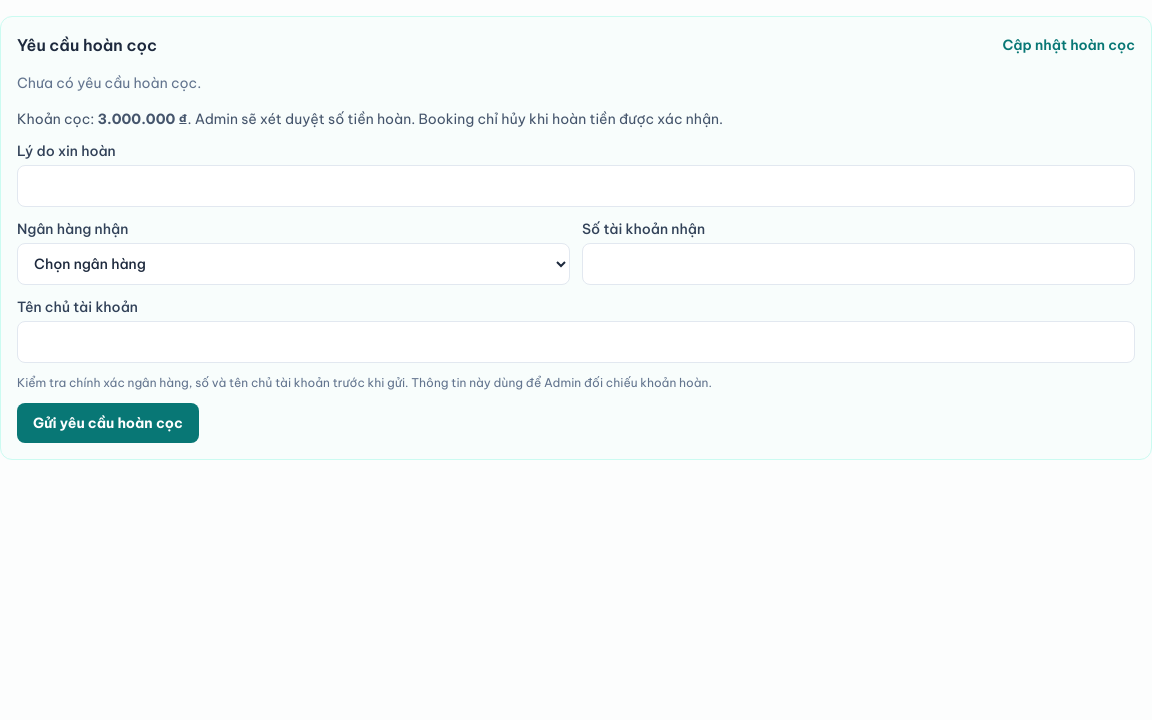
it: Customer refund form and tracking › requires a read after a lost submission response instead of blindly posting another request
Type " Đổi kế hoạch " into the field labelled "Lý do xin hoàn" at (576, 186), box [17, 165, 1135, 207]
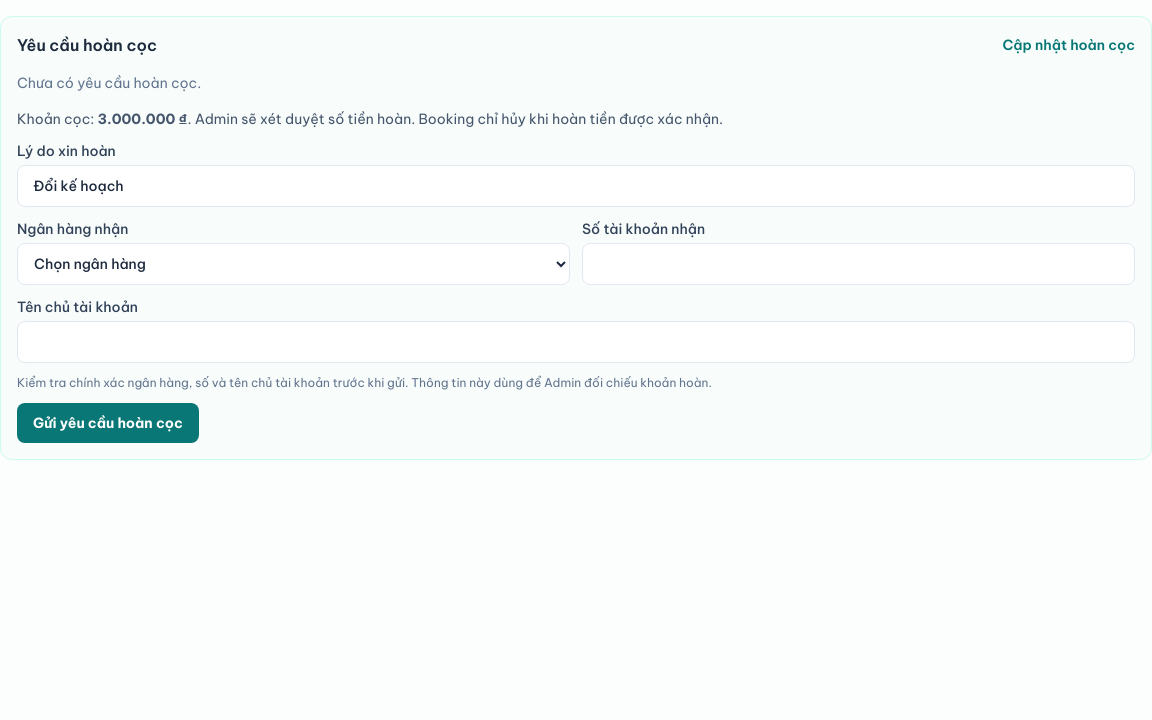
Select "MB Bank" in the dropdown labelled "Ngân hàng nhận" at (294, 264), box [17, 243, 570, 285]
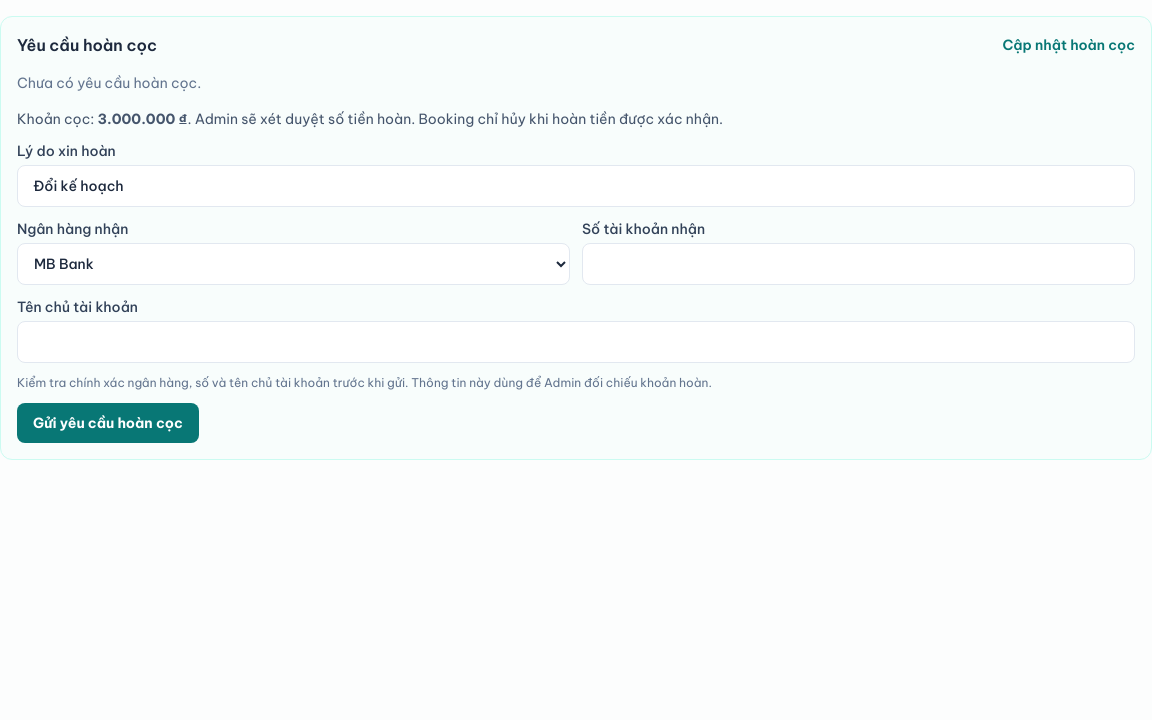
Type "001234567890" into the field labelled "Số tài khoản nhận" at (858, 264), box [582, 243, 1135, 285]
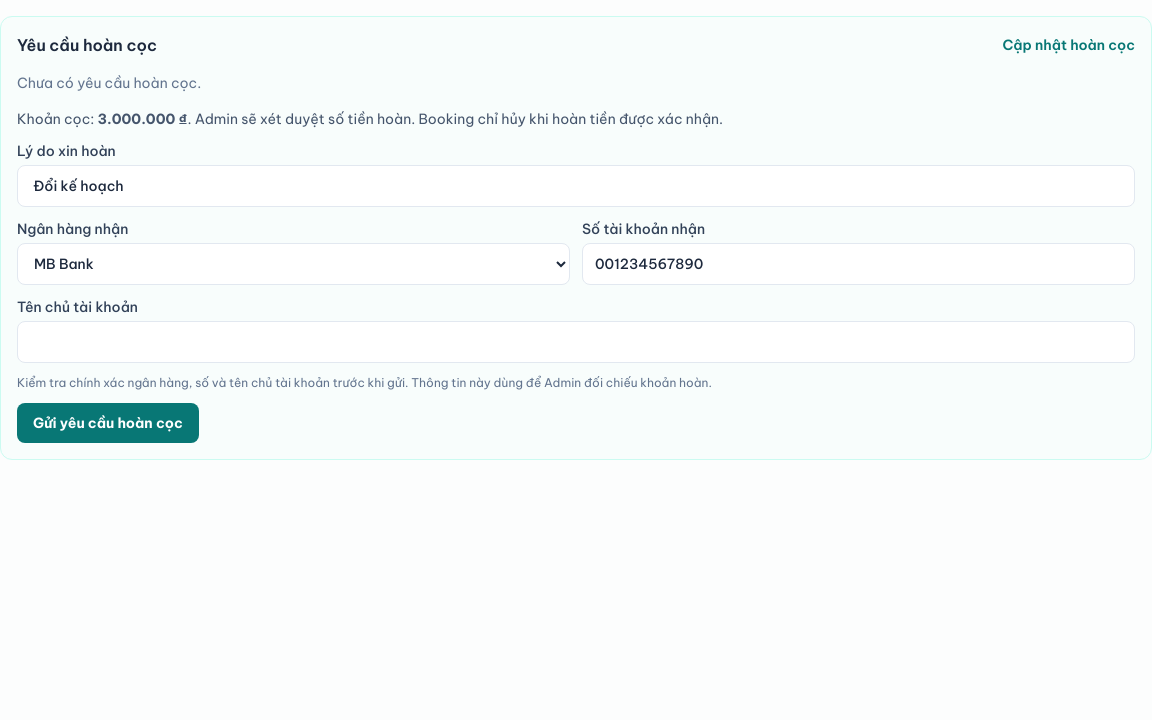
Type "NGUYEN AN" into the field labelled "Tên chủ tài khoản" at (576, 342), box [17, 321, 1135, 363]
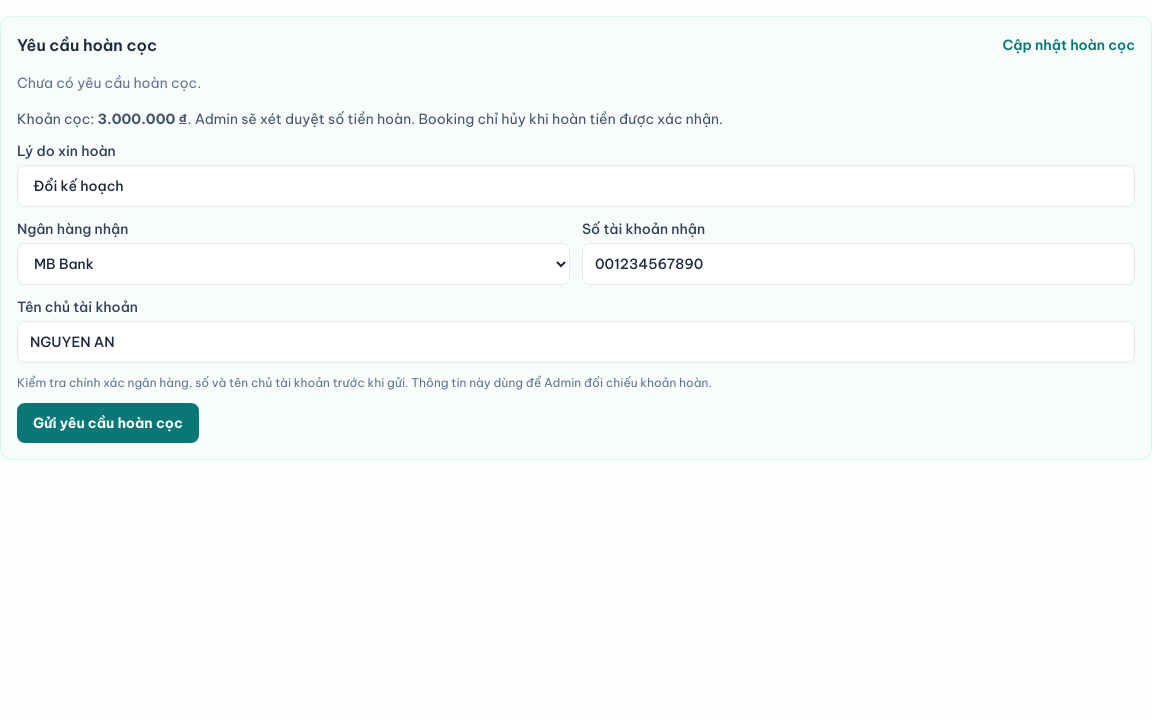
Click the button "Gửi yêu cầu hoàn cọc" at (108, 423), box [17, 403, 199, 443]
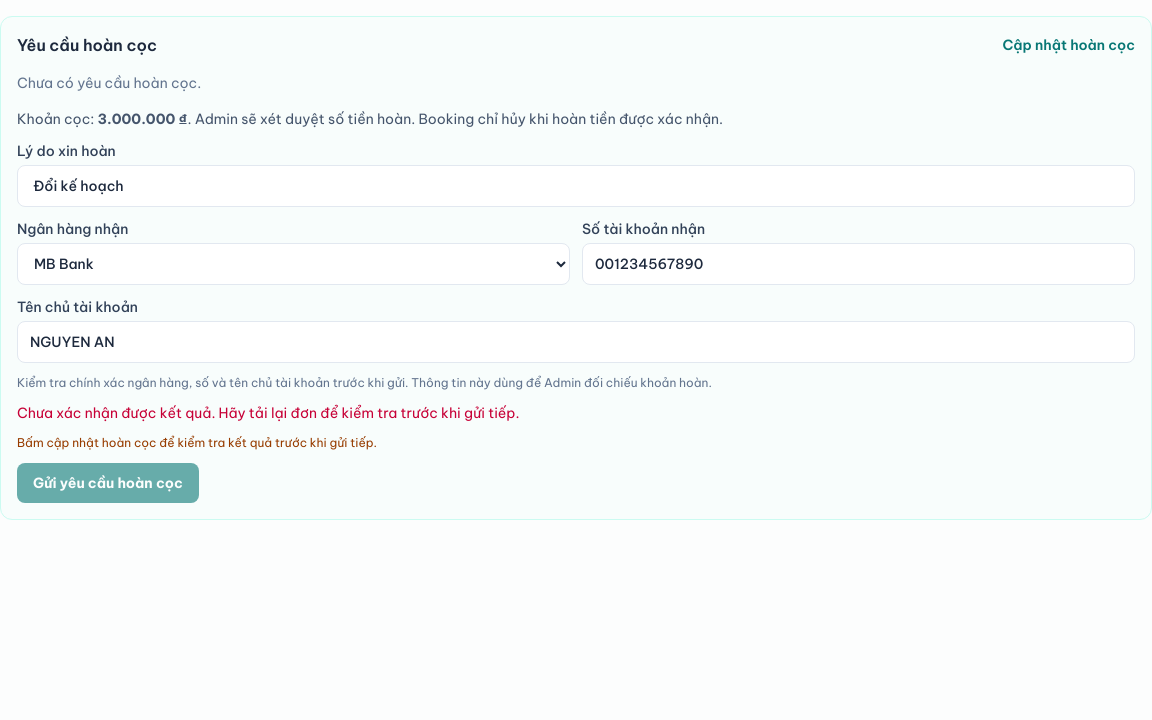
expect the text "Bấm cập nhật hoàn cọc để kiểm tra kết quả trước khi gửi tiếp." is shown: met, box [17, 435, 377, 450]
expect the button "Gửi yêu cầu hoàn cọc" is disabled: met, box [17, 463, 199, 503]
Click the button "Cập nhật hoàn cọc" at (1069, 45), box [1002, 35, 1135, 55]
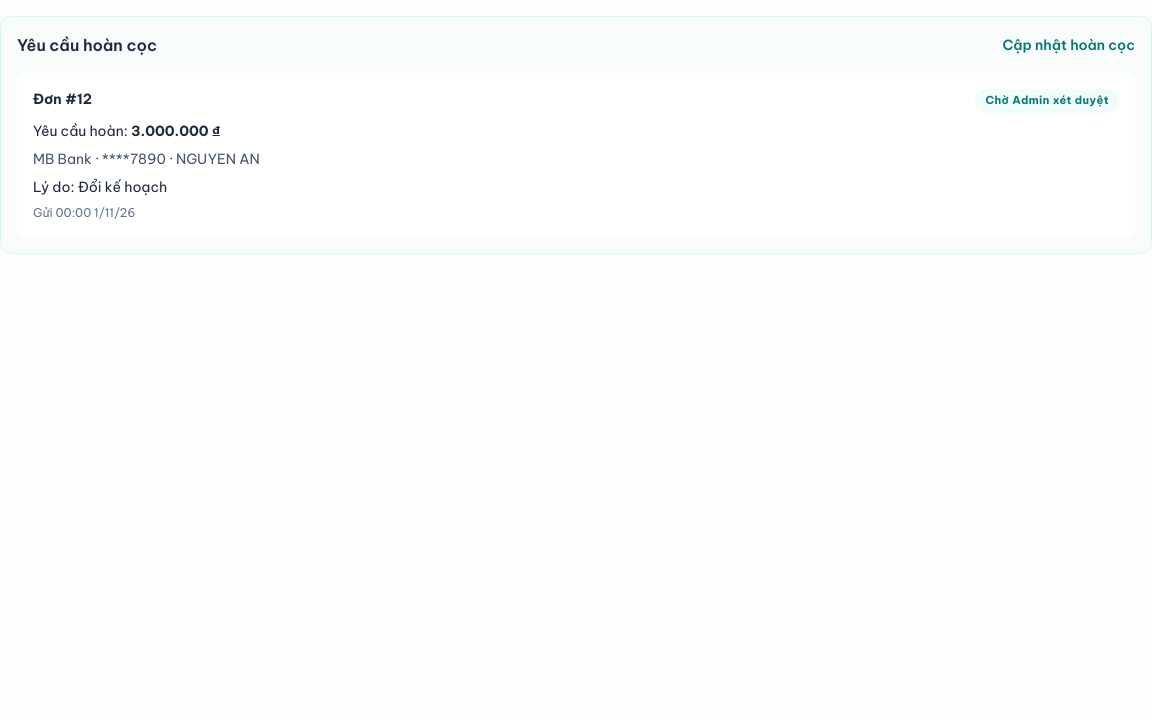
expect the text "Chờ Admin xét duyệt" is shown: met, box [975, 89, 1119, 113]
